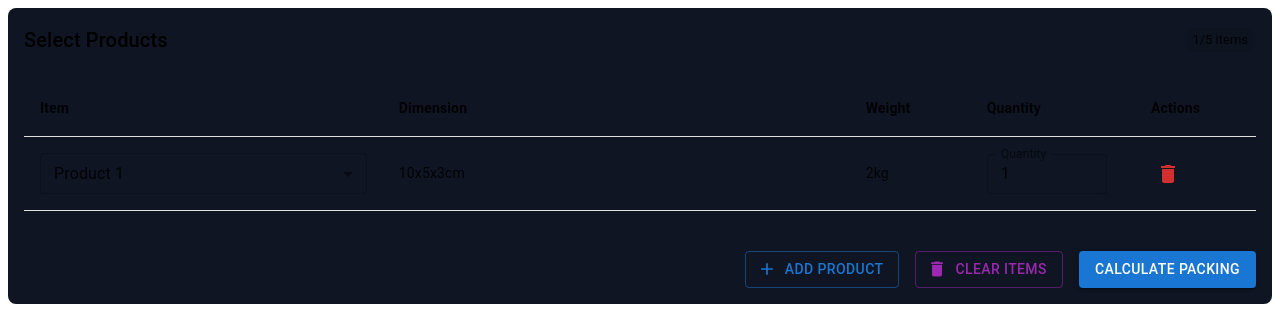
ProductSelector Component › should render product options correctly and handle selection
Press the mouse on the dropdown: (89, 173) [54, 164, 124, 182]
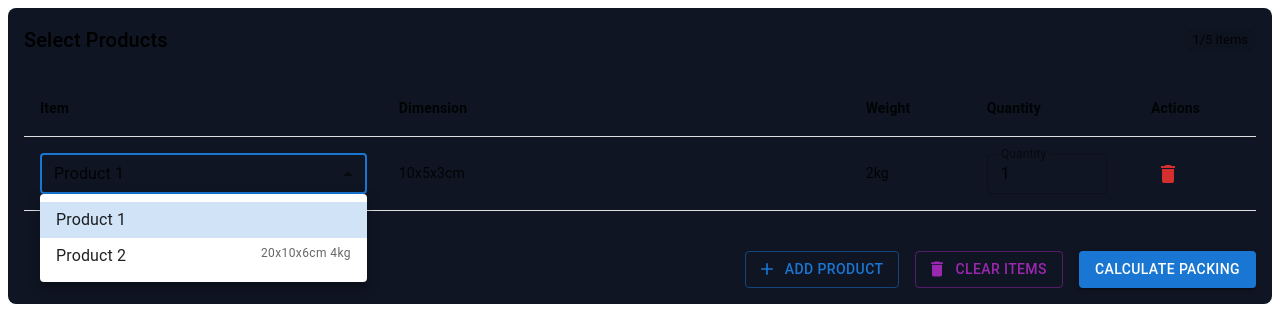
Expected: the text "Product 2" is shown, [56, 244, 126, 268]
